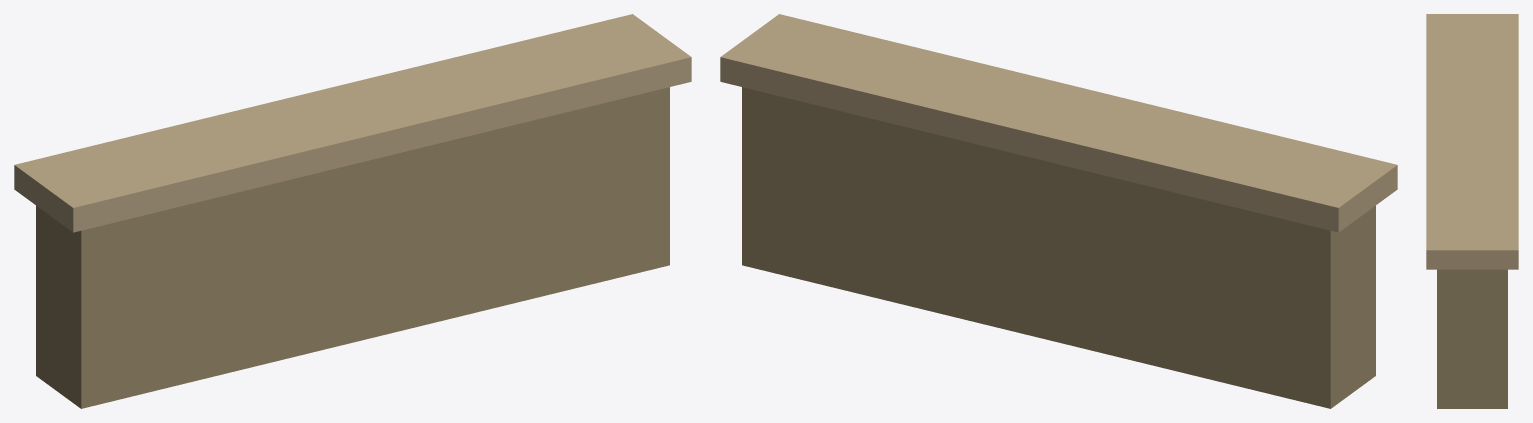
Rendered from PirateCove_FortBankWall_Simple.glb.
The picture shows the model from 3 angles, left to right: view 1: azimuth 30°, elevation 25°; view 2: azimuth 150°, elevation 25°; view 3: azimuth 270°, elevation 25°; orthographic projection. The views are drawn at different scales.
Parts seen in each view (by area): view 1: PirateCove_FortBankWall_Simple; view 2: PirateCove_FortBankWall_Simple; view 3: PirateCove_FortBankWall_Simple.
Part boxes in pixels (box(x1,y1,x2,y2)): PirateCove_FortBankWall_Simple: box(14, 14, 691, 408); PirateCove_FortBankWall_Simple: box(720, 14, 1397, 408); PirateCove_FortBankWall_Simple: box(1426, 14, 1518, 408).
Bounding box in the file's own units: 3.15 × 1.02 × 0.52.
